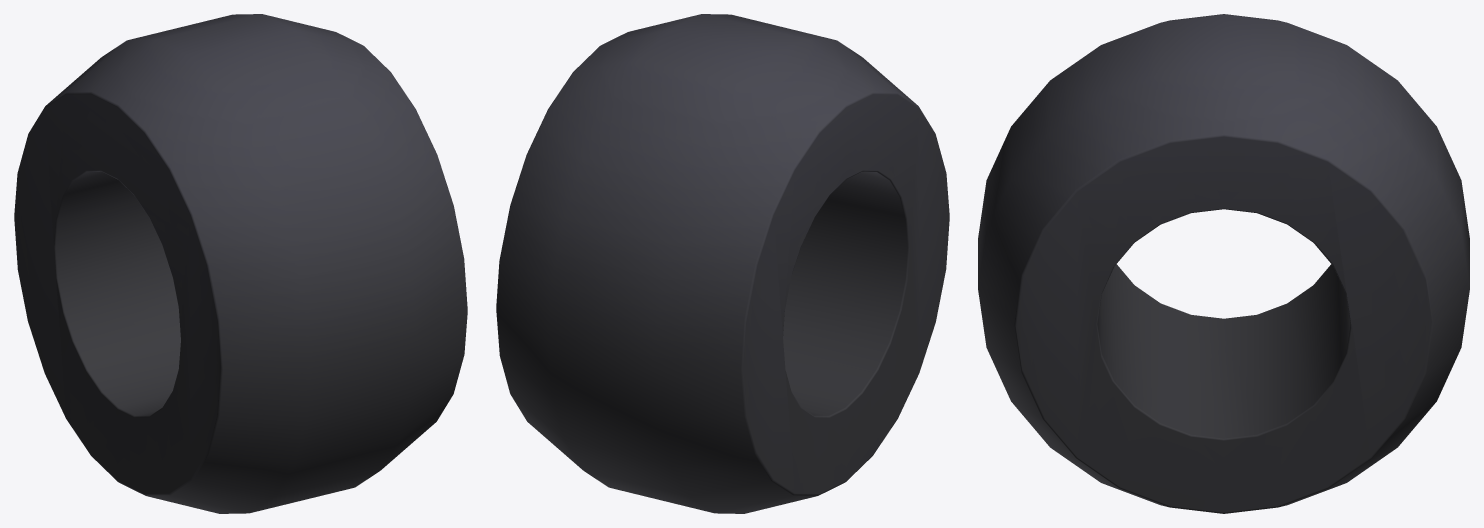
Rendered from debris-tire.glb.
The picture shows the model from 3 angles, left to right: view 1: azimuth 30°, elevation 25°; view 2: azimuth 150°, elevation 25°; view 3: azimuth 270°, elevation 25°; orthographic projection.
Parts seen in each view (by area): view 1: debris-tire; view 2: debris-tire; view 3: debris-tire.
Boxes of the visible parts, left/top/right/bottom form: debris-tire: left=14, top=14, right=467, bottom=513; debris-tire: left=496, top=14, right=949, bottom=513; debris-tire: left=978, top=14, right=1469, bottom=513.
Bounding box in the file's own units: 0.35 × 0.6 × 0.6.
1 material, 1 textured.
